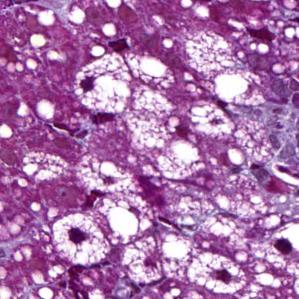ballooning: (73, 51, 175, 116), (50, 212, 111, 268), (187, 250, 248, 297)
